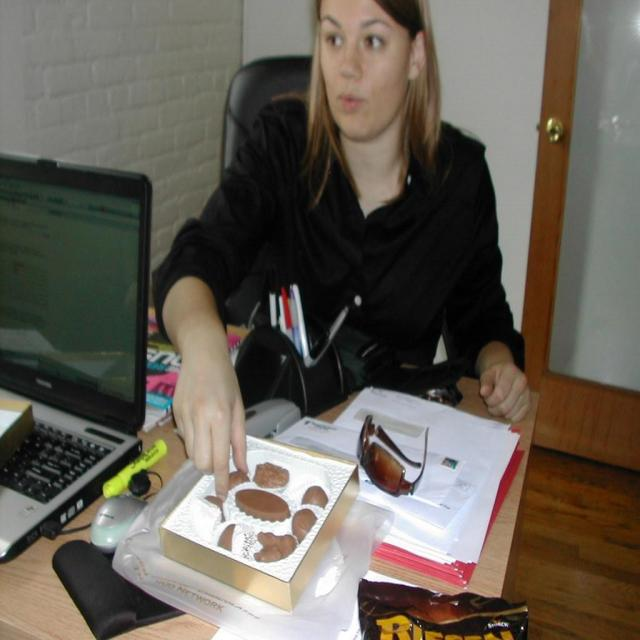Table: (0, 322, 540, 639)
